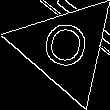O_S: (38, 19, 92, 78)
